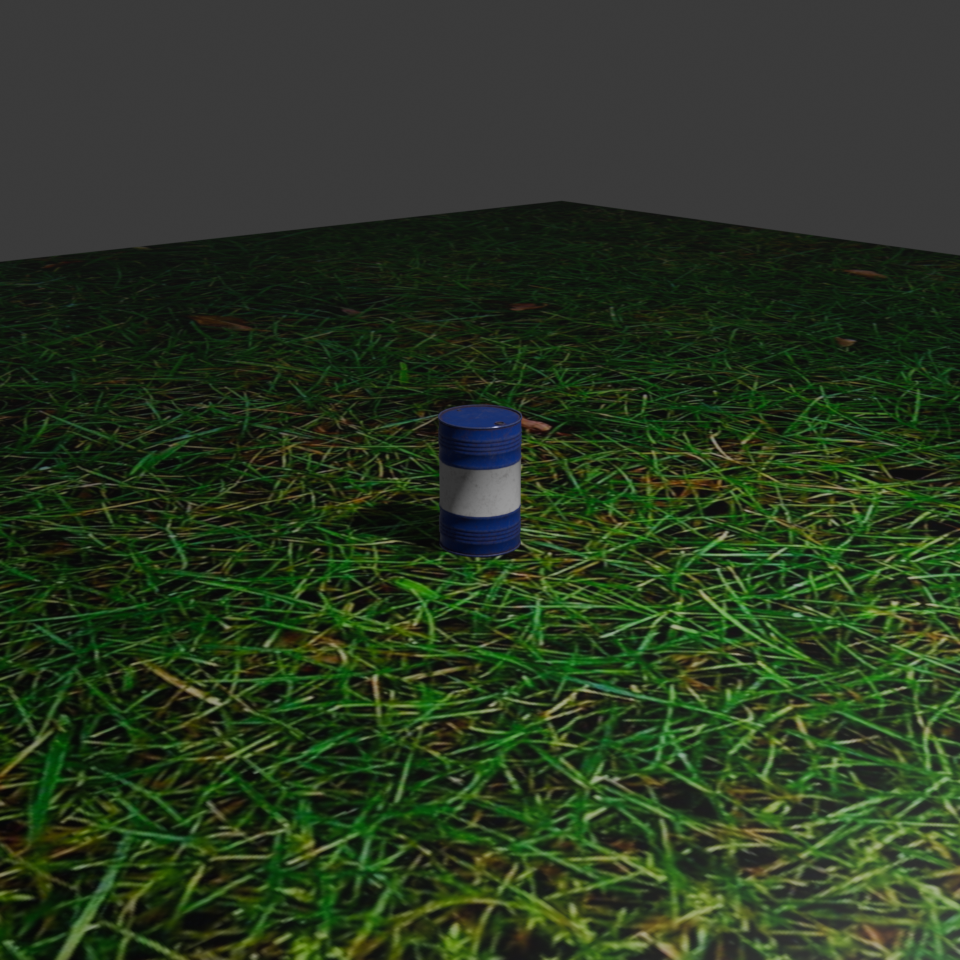circle: (436, 403, 523, 559)
